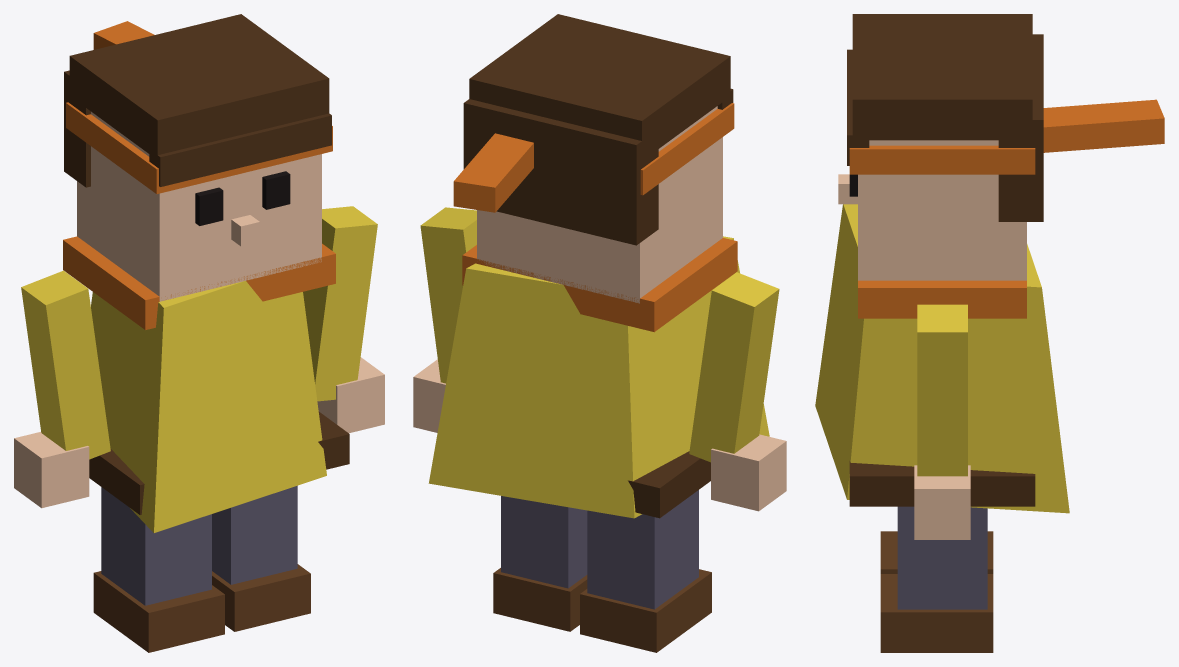
Rendered from VillagerFast.fbx.
The picture shows the model from 3 angles, left to right: view 1: azimuth 30°, elevation 25°; view 2: azimuth 150°, elevation 25°; view 3: azimuth 270°, elevation 25°; orthographic projection. The views are drawn at different scales.
Visible parts, largest first — view 1: VillagerFast; view 2: VillagerFast; view 3: VillagerFast.
Part boxes in pixels (<box>): VillagerFast: <box>14,14,384,652</box>; VillagerFast: <box>413,14,786,652</box>; VillagerFast: <box>815,14,1164,652</box>.
Size of the model in its own units: 0.72 by 1.09 by 0.6212.
